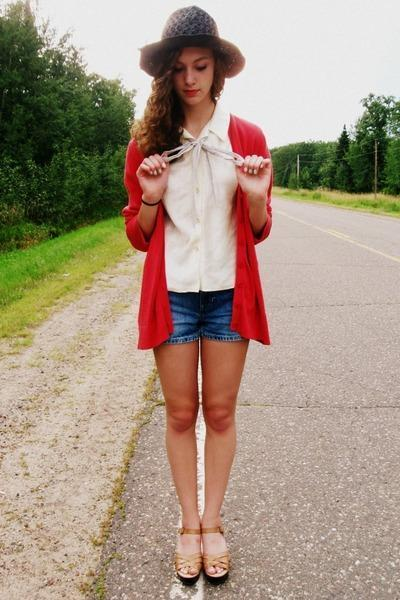hat: (140, 6, 243, 83)
jacket: (122, 115, 269, 347)
shirt: (165, 117, 245, 292)
shorts: (168, 288, 240, 587)
